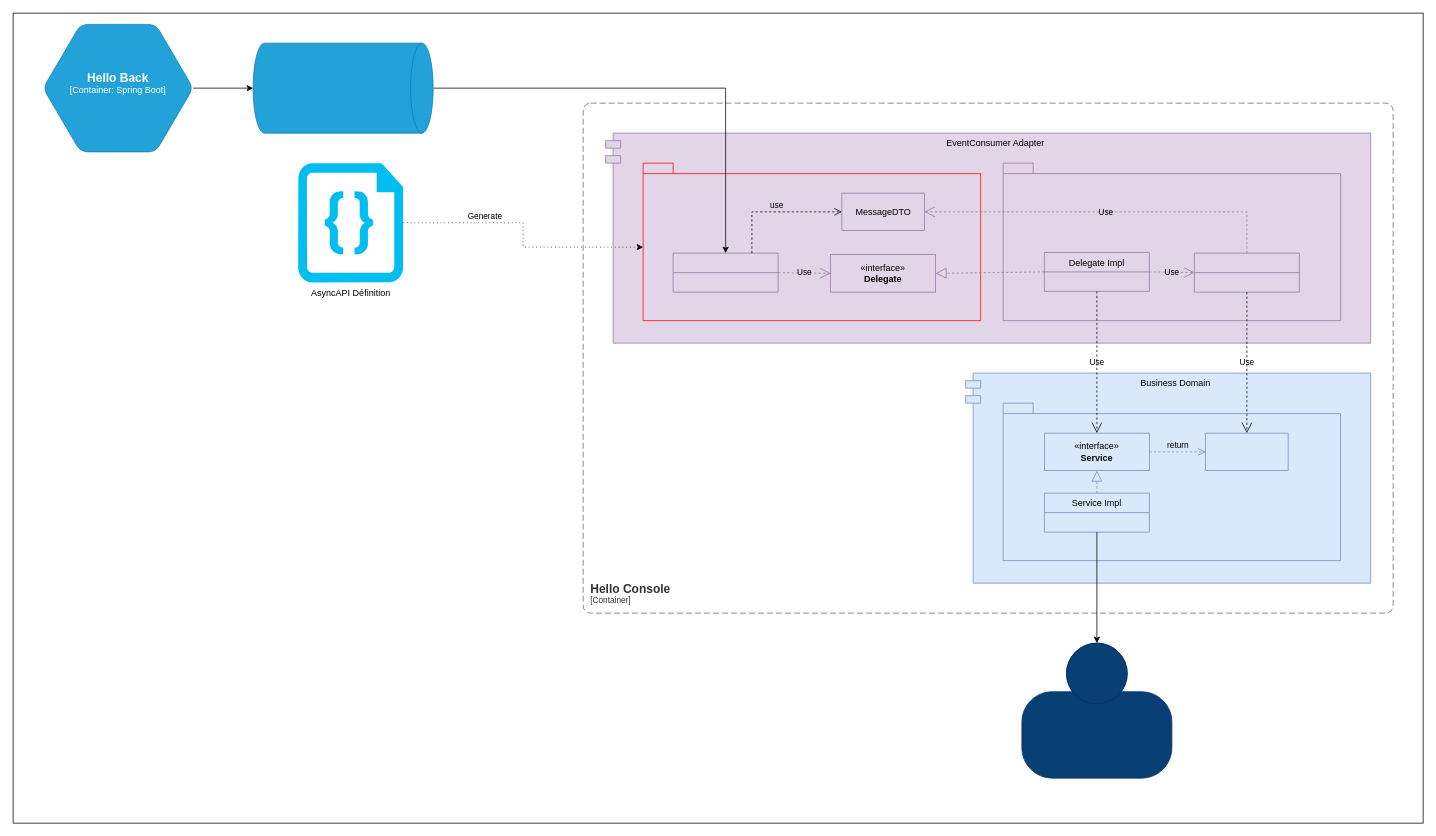
This 1436x836 diagram has some shape labels left out. Here are the shapes that lost their labels. From the top down, the centre of each, then its label:
At pixel 342 87: "Message Bus [Container: Apache Kafka]".
At pixel 725 272: "Consumer".
At pixel 1246 272: "Mapper".
At pixel 1246 451: "Objet Métier".
At pixel 1096 710: "Administrator [Person] Description of person.".
